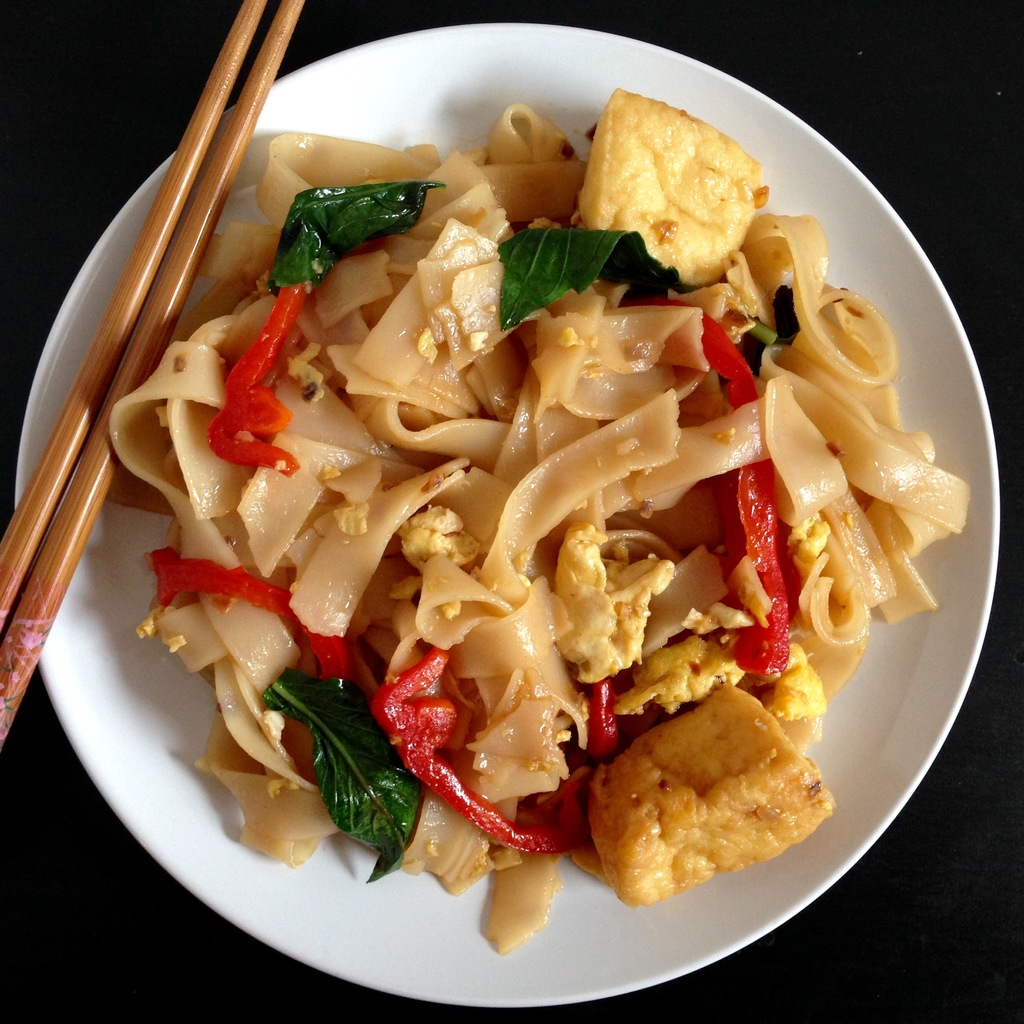pasta: (87, 57, 957, 945)
